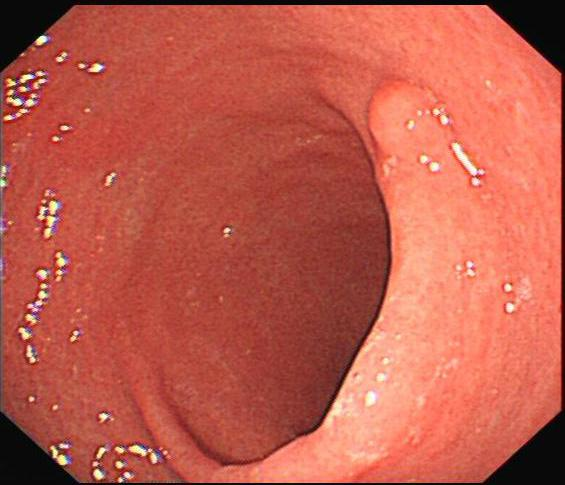Polyp: (353, 66, 453, 172)
